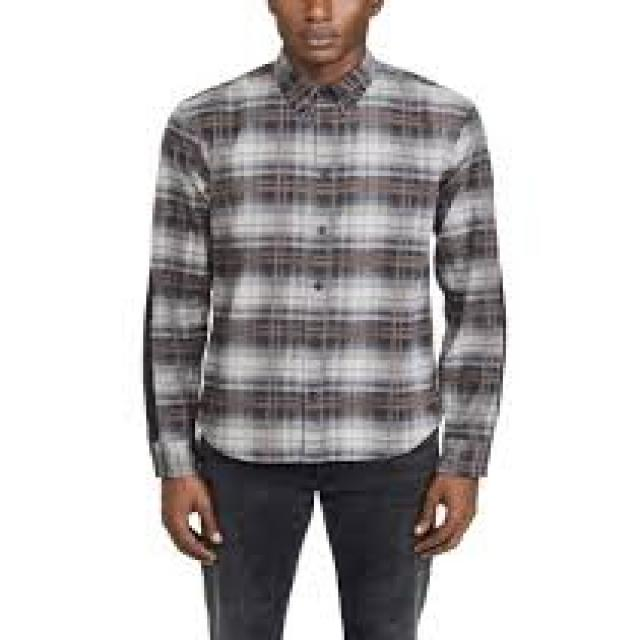plaid: (142, 64, 505, 476)
